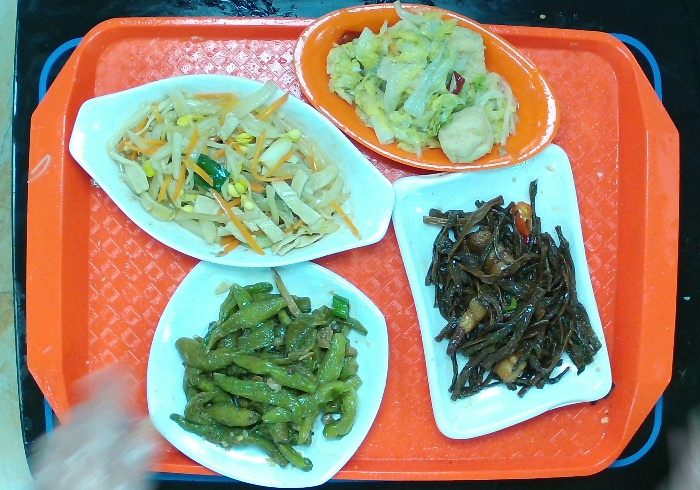RJxy-Ju_Huang_Tuo_Yuan: (294, 1, 560, 174)
RJxy-Si_Fang_Ao_Bian_Wan: (391, 143, 617, 444)
RJxy-Si_Fang_Die: (148, 249, 392, 490)
RJxy-Yu_Pan: (71, 69, 394, 269)
